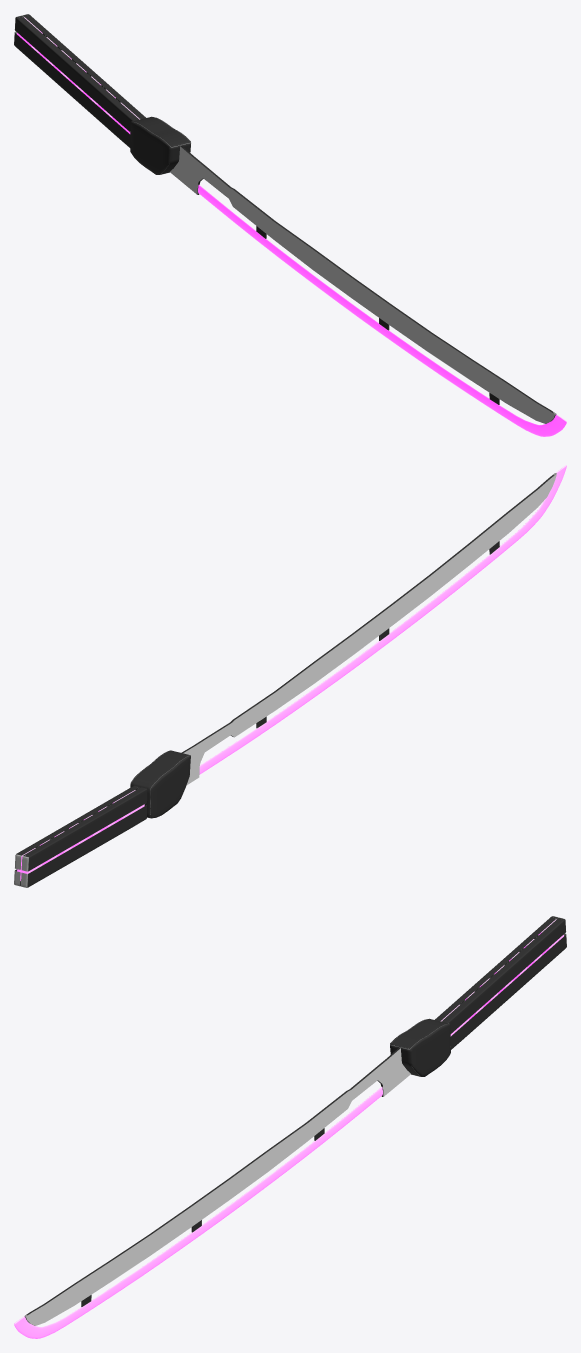
The model's file is CyberpunkSword.fbx.
3 views of the same model, one above another, from view 1: azimuth 30°, elevation 25°; view 2: azimuth 150°, elevation 25°; view 3: azimuth 330°, elevation 25° (orthographic).
Visible parts, largest first — view 1: geo_bladeHolder, geo_outsideHilt, geo_blade, geo_connector; view 2: geo_bladeHolder, geo_outsideHilt, geo_blade, geo_connector; view 3: geo_bladeHolder, geo_outsideHilt, geo_blade, geo_connector.
Boxes of the visible parts, x1,y1,x2,y2 form: geo_bladeHolder: (170,146,556,423); geo_outsideHilt: (14,14,145,147); geo_blade: (198,185,566,436); geo_connector: (130,116,190,174); geo_bladeHolder: (181,473,556,785); geo_outsideHilt: (14,785,147,887); geo_blade: (199,465,566,774); geo_connector: (130,750,190,818); geo_bladeHolder: (24,1048,410,1325); geo_outsideHilt: (435,916,566,1049); geo_blade: (14,1087,382,1338); geo_connector: (390,1018,450,1076).
Size of the model in its own units: 0.6015 by 1.39 by 24.69.
Materials: 2 (1 with a texture image).
